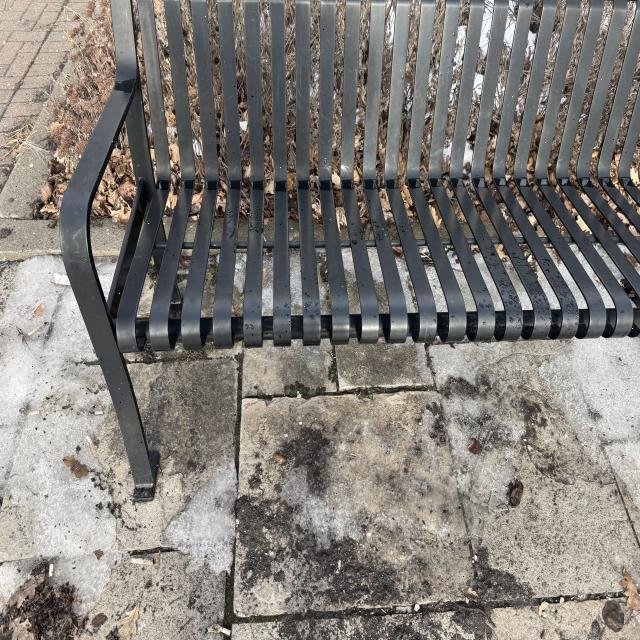Bench: (43, 0, 634, 461)
